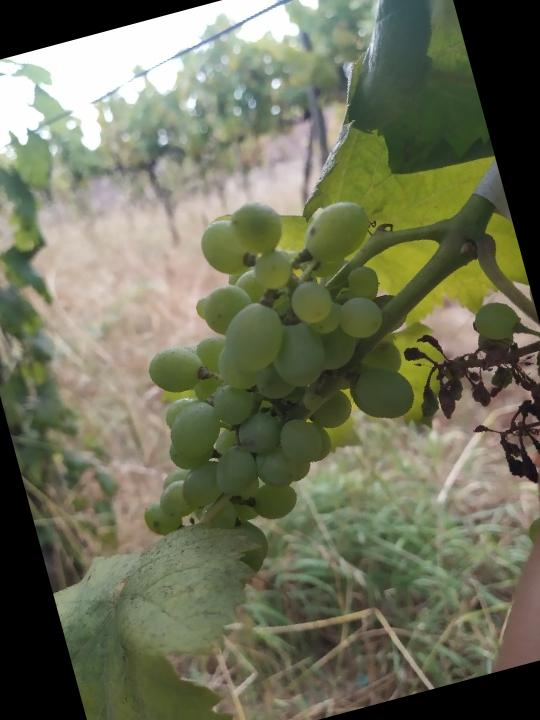grape: (69, 171, 443, 563)
